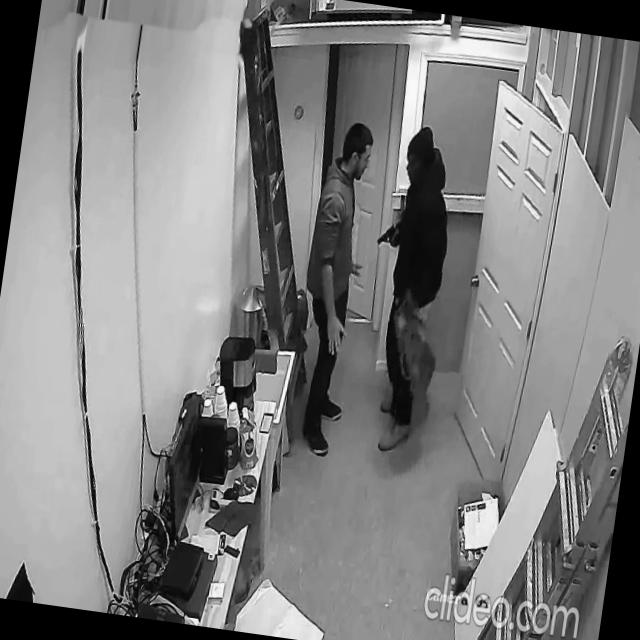gun: (377, 221, 396, 248)
person: (282, 116, 384, 462)
person with a gun: (350, 118, 466, 460)
